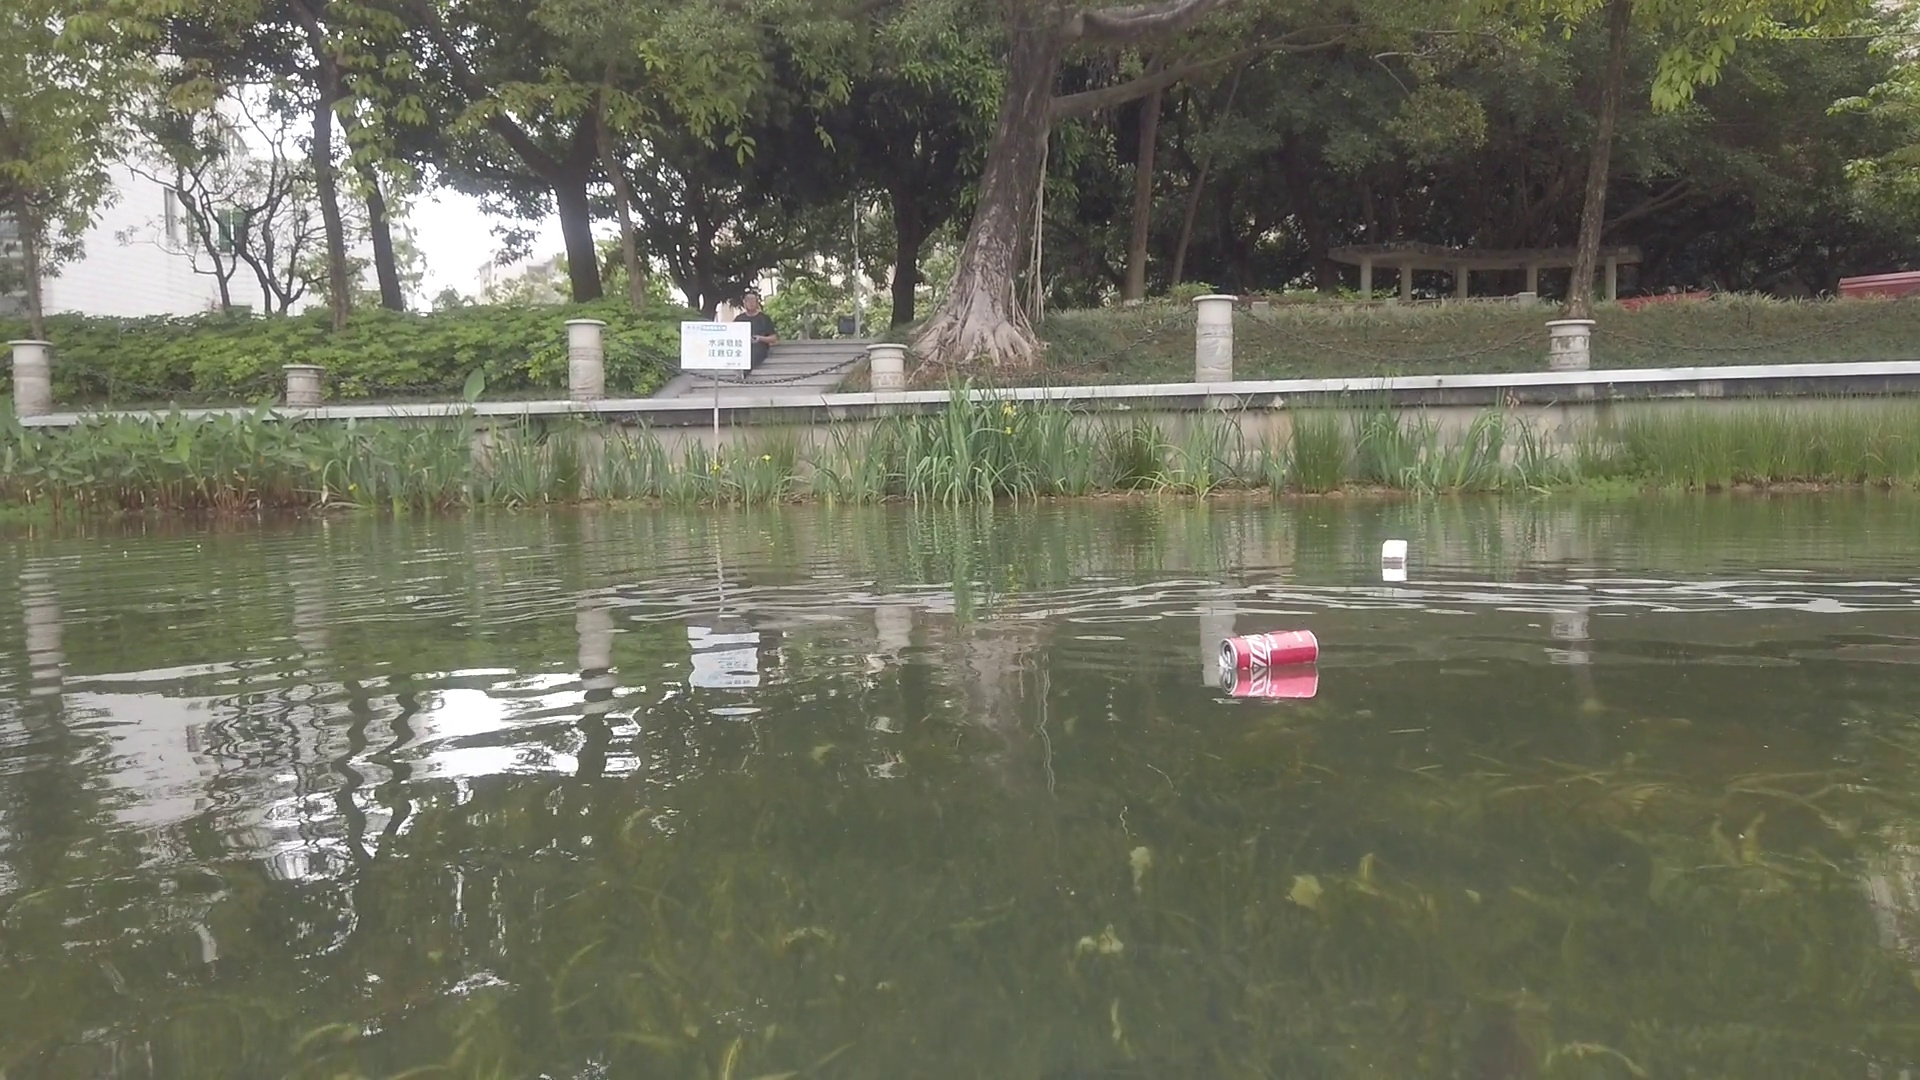bottle: (1221, 632, 1323, 665)
carton: (1383, 535, 1410, 564)
